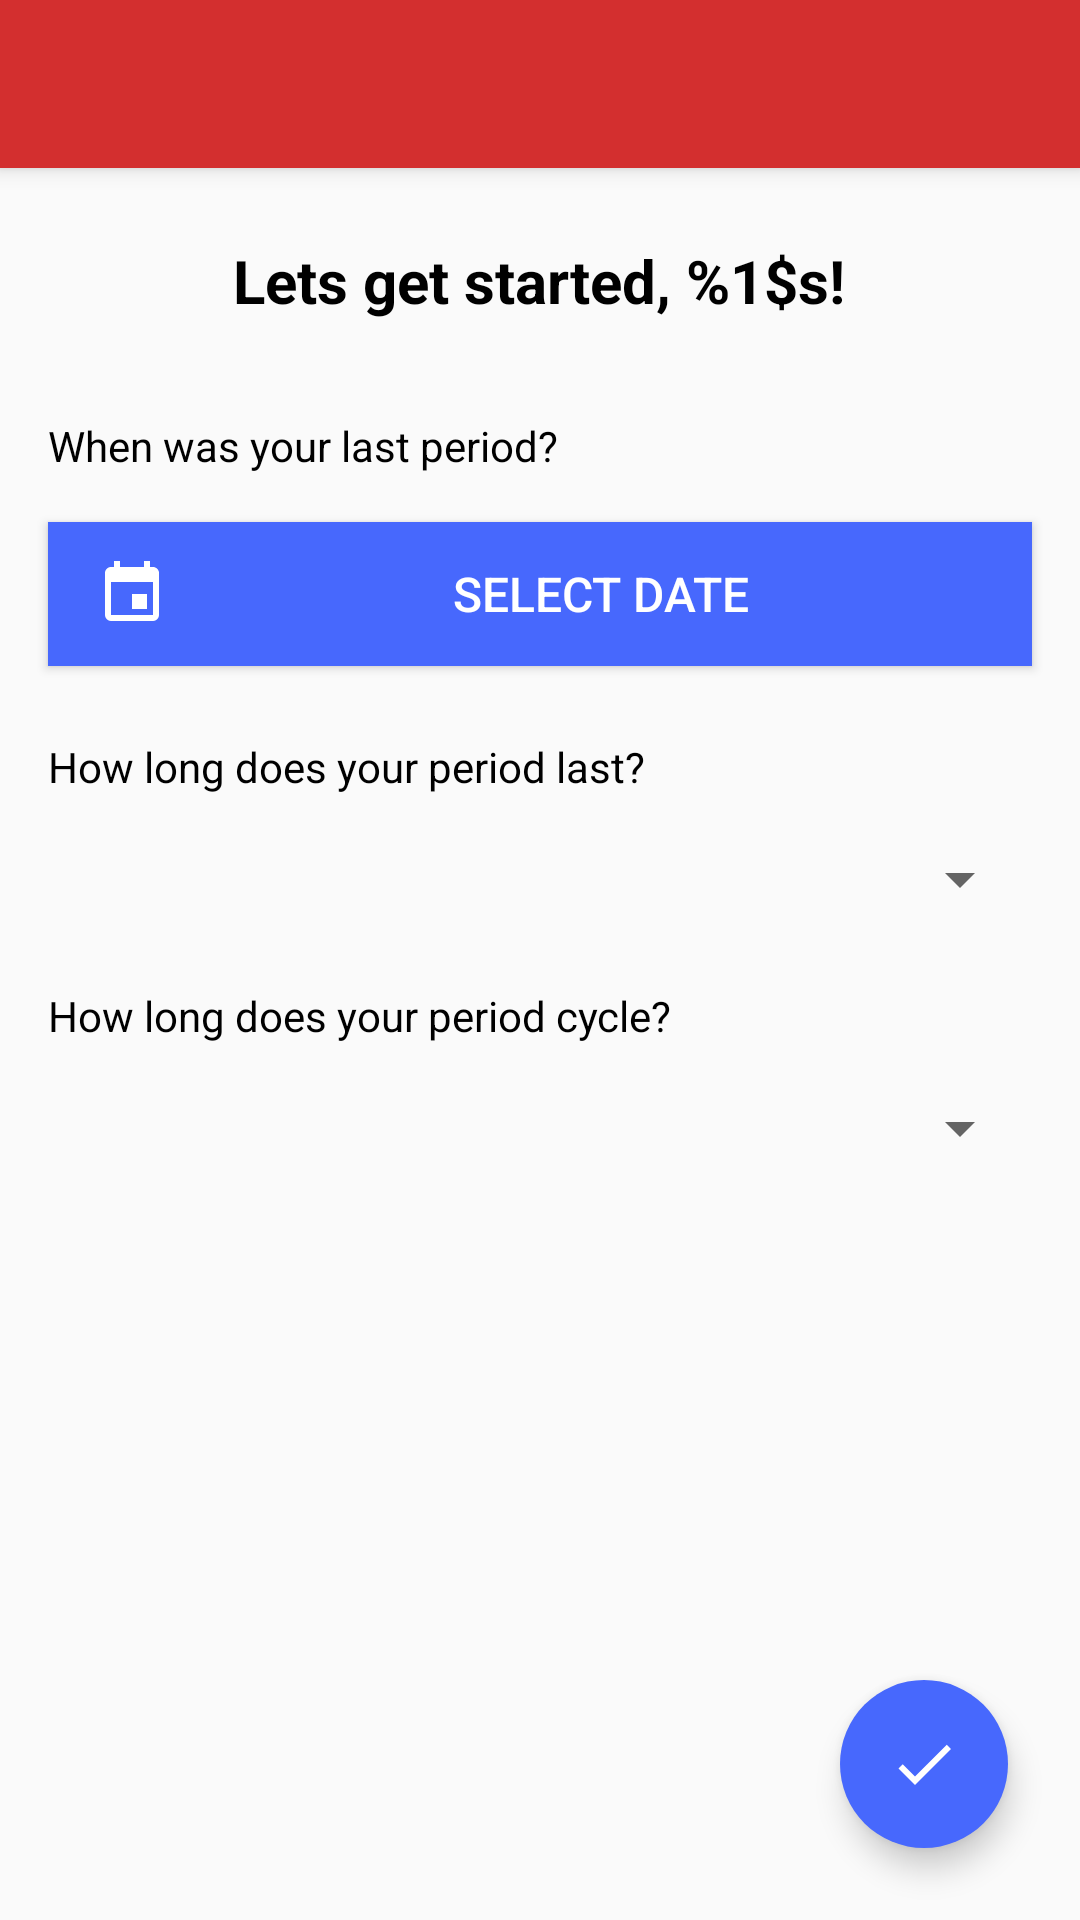

Icons on this 1080*1920 Android screen, each with the point to tap as [x,y]:
check: [924,1764]
